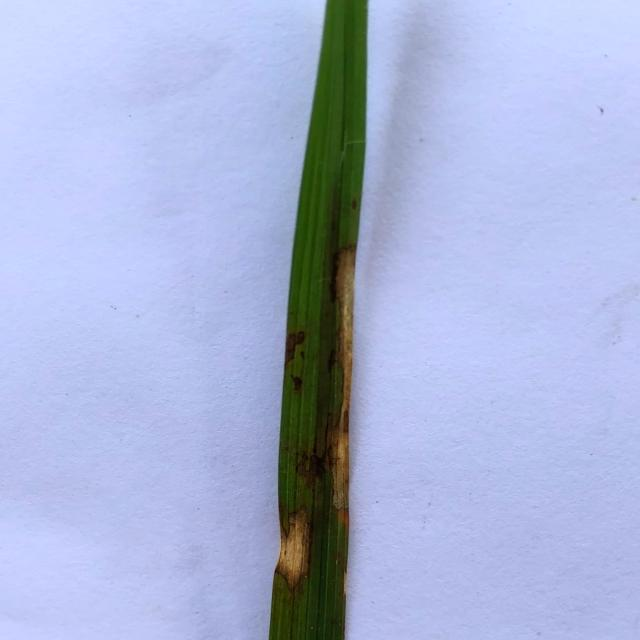leaf blight: (324, 248, 352, 526), (280, 524, 308, 582)
